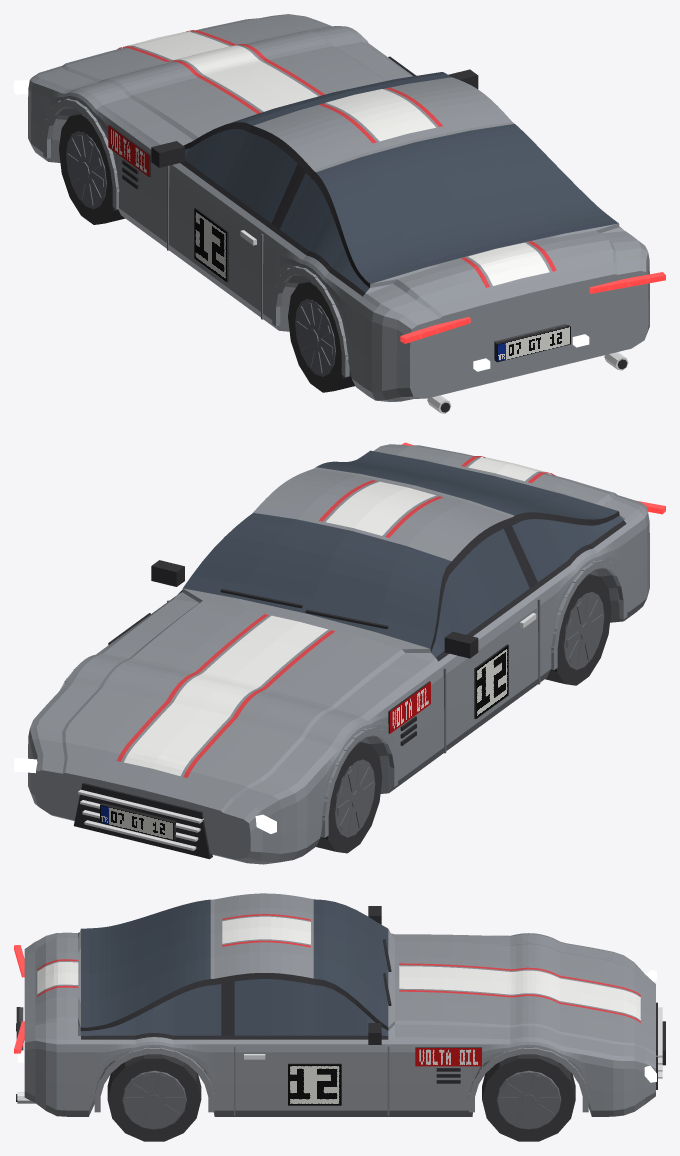
File: ashford.glb
3 views of the same model, one above another, from view 1: azimuth 30°, elevation 25°; view 2: azimuth 150°, elevation 25°; view 3: azimuth 270°, elevation 25° (orthographic). The views are drawn at different scales.
Visible parts, largest first — view 1: body.001, livery.001, wheel_RL.001, wheel_FL.001; view 2: body.001, livery.001, wheel_FL.001, wheel_RL.001; view 3: body.001, livery.001, wheel_RR.001, wheel_FR.001.
Part boxes in pixels (x1=…): body.001: x1=14, y1=14, x2=665, y2=413; livery.001: x1=108, y1=30, x2=556, y2=287; wheel_RL.001: x1=288, y1=281, x2=354, y2=392; wheel_FL.001: x1=59, y1=113, x2=125, y2=224; body.001: x1=14, y1=442, x2=665, y2=864; livery.001: x1=108, y1=456, x2=555, y2=777; wheel_FL.001: x1=316, y1=742, x2=382, y2=853; wheel_RL.001: x1=545, y1=574, x2=611, y2=685; body.001: x1=14, y1=893, x2=665, y2=1116; livery.001: x1=37, y1=914, x2=640, y2=1105; wheel_RR.001: x1=107, y1=1054, x2=201, y2=1141; wheel_FR.001: x1=482, y1=1054, x2=575, y2=1141.
Size of the model in its own units: 2.25 by 1.33 by 4.87.
16 materials, 5 textured.
